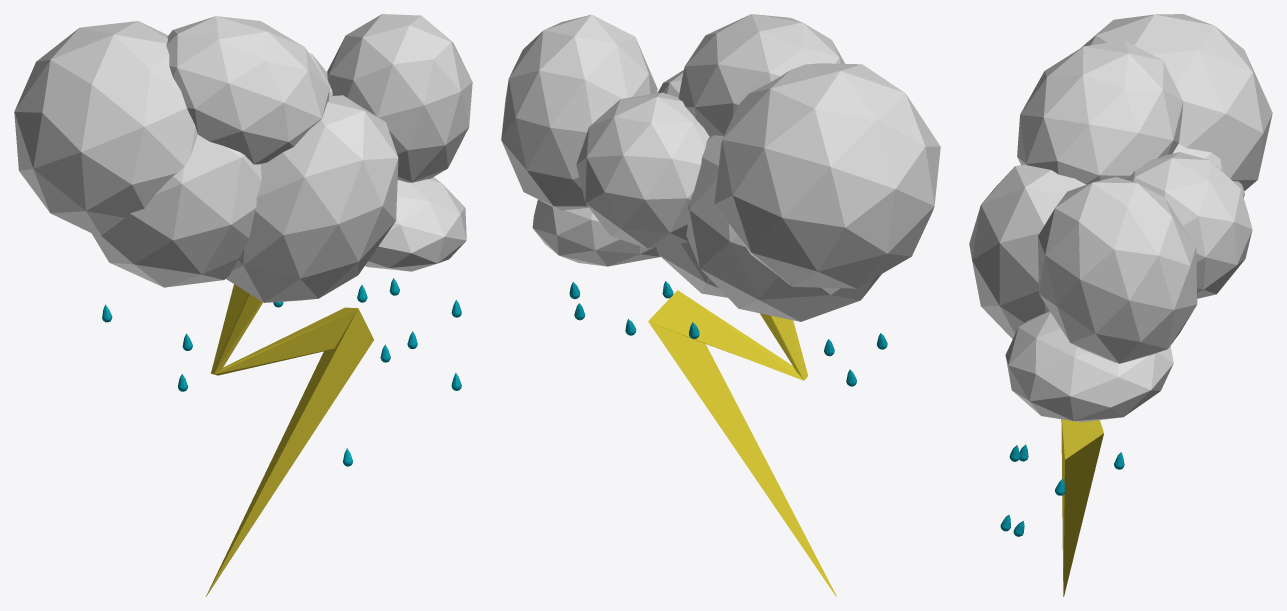
The model's file is storm-model.glb.
3 renders of one model, left to right at view 1: azimuth 30°, elevation 25°; view 2: azimuth 150°, elevation 25°; view 3: azimuth 270°, elevation 25°, orthographic. The views are drawn at different scales.
Visible parts, largest first — view 1: node_MeshObject167173056-PolyPaper21; view 2: node_MeshObject167173056-PolyPaper21; view 3: node_MeshObject167173056-PolyPaper21.
Boxes of the visible parts, box(x1,y1,x2,y2) form: node_MeshObject167173056-PolyPaper21: box(14, 14, 472, 596); node_MeshObject167173056-PolyPaper21: box(501, 14, 940, 596); node_MeshObject167173056-PolyPaper21: box(969, 14, 1272, 596).
Size of the model in its own units: 1.08 by 1.36 by 0.6652.
